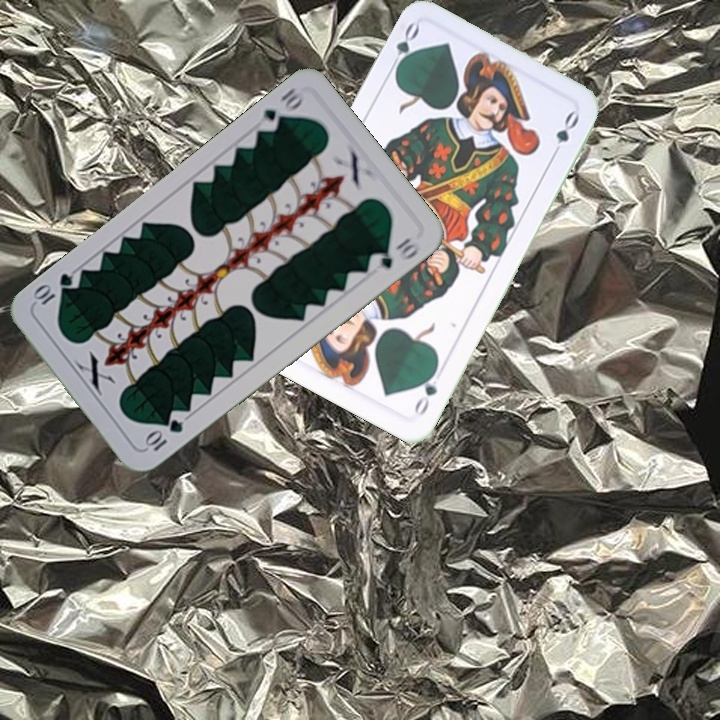G10: (258, 83, 308, 135), (141, 415, 186, 454)
GO: (384, 19, 422, 77), (410, 362, 441, 418)
